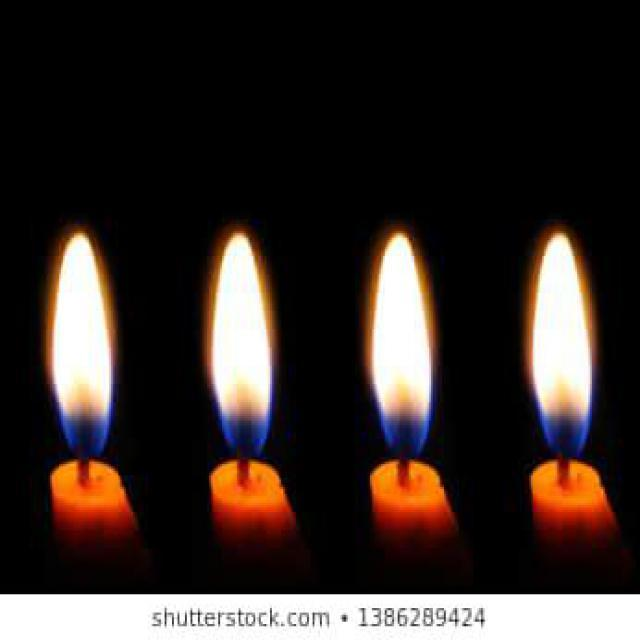Fire: (530, 234, 593, 458), (51, 234, 112, 461), (371, 234, 432, 458), (210, 233, 271, 454)
